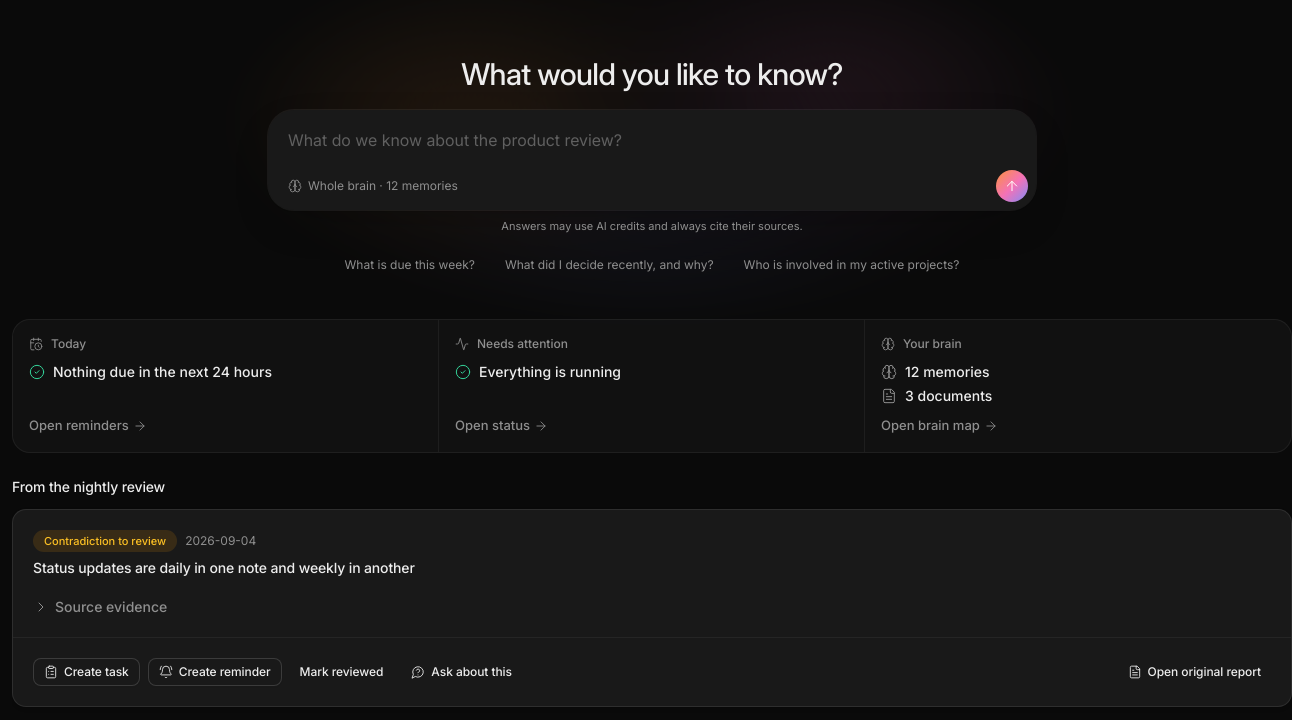
Scenario: prefills the question box from an insight
Click the button "Ask about this" at [462, 672], box [401, 658, 522, 686]
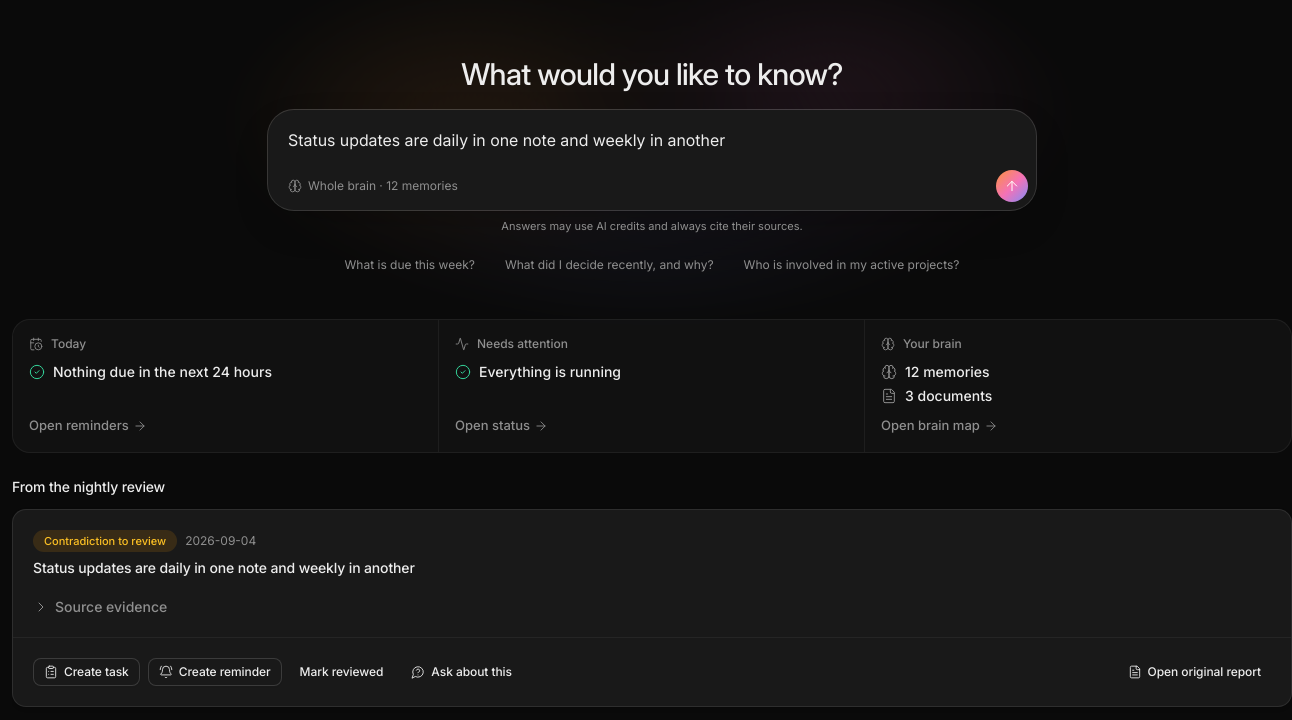
Expected: the text box labelled "What would you like to know?" holds "Status updates are daily in one note and weekly in another", [276, 118, 1028, 170]
